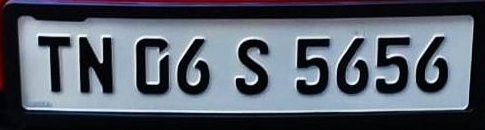character: (374, 35, 412, 95), (77, 34, 114, 95), (134, 34, 170, 95), (294, 34, 330, 95), (36, 32, 71, 94), (413, 33, 449, 93), (174, 34, 209, 95), (233, 38, 269, 97), (335, 35, 369, 95)
